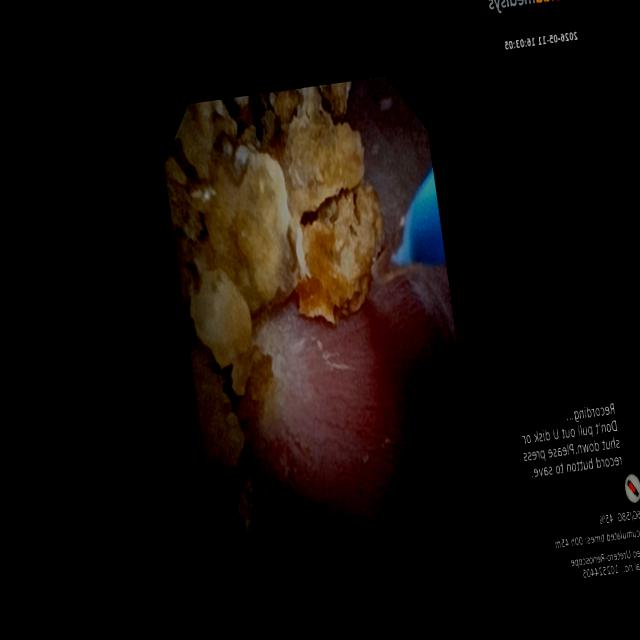laser-fibre: (371, 236, 405, 283)
stone-new: (164, 83, 364, 368), (296, 184, 383, 322), (191, 351, 244, 479)
